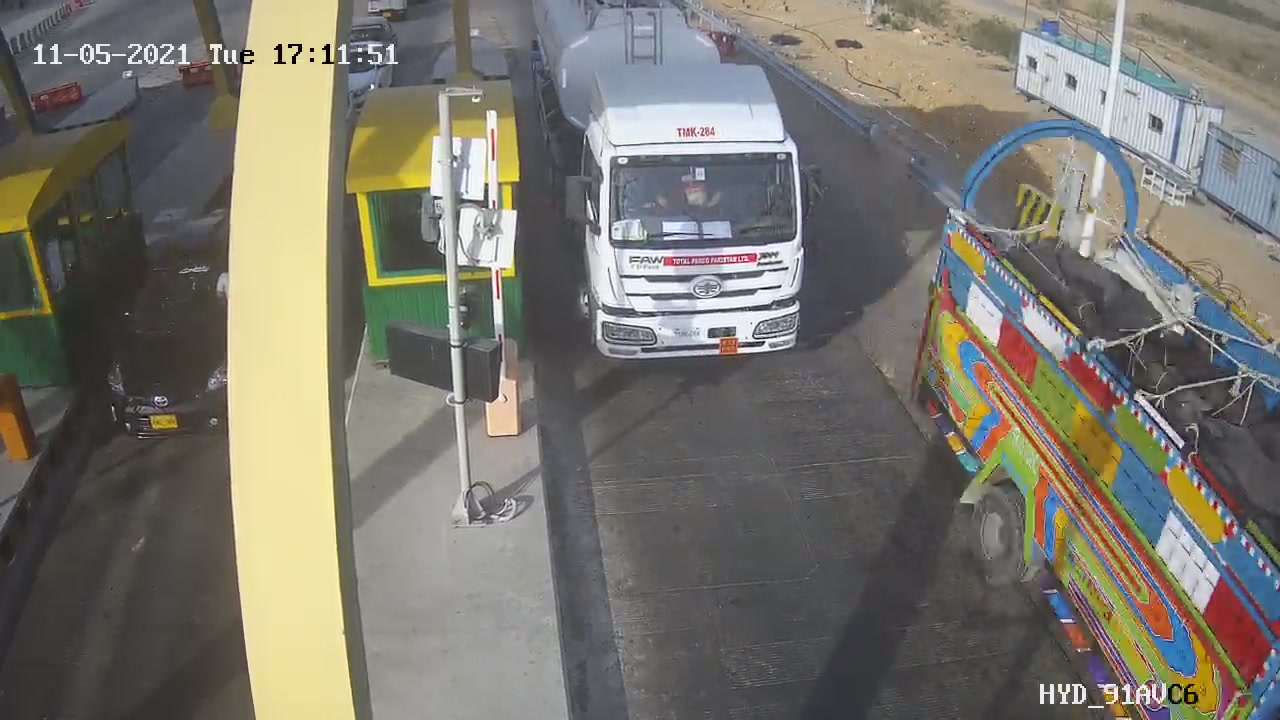F6: (518, 1, 853, 385)
